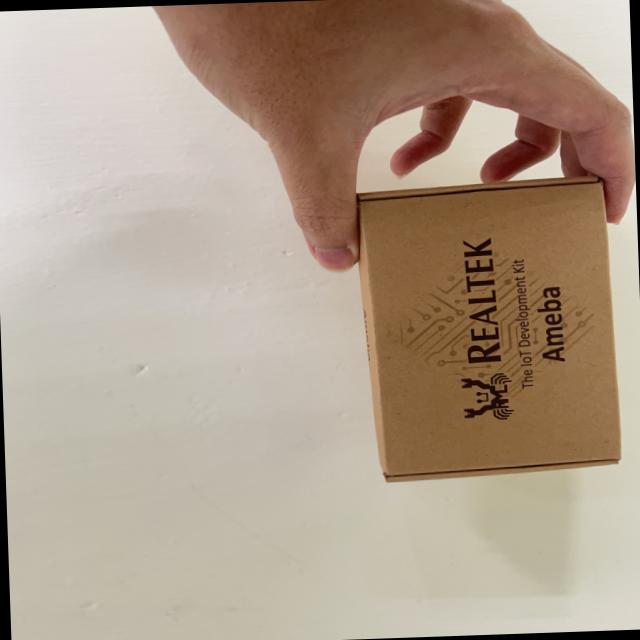box: (344, 167, 640, 500)
